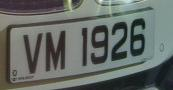1: (76, 25, 93, 71)
2: (108, 19, 131, 63)
6: (127, 16, 150, 61)
9: (88, 21, 112, 67)
M: (44, 27, 68, 78)
V: (21, 28, 45, 78)
